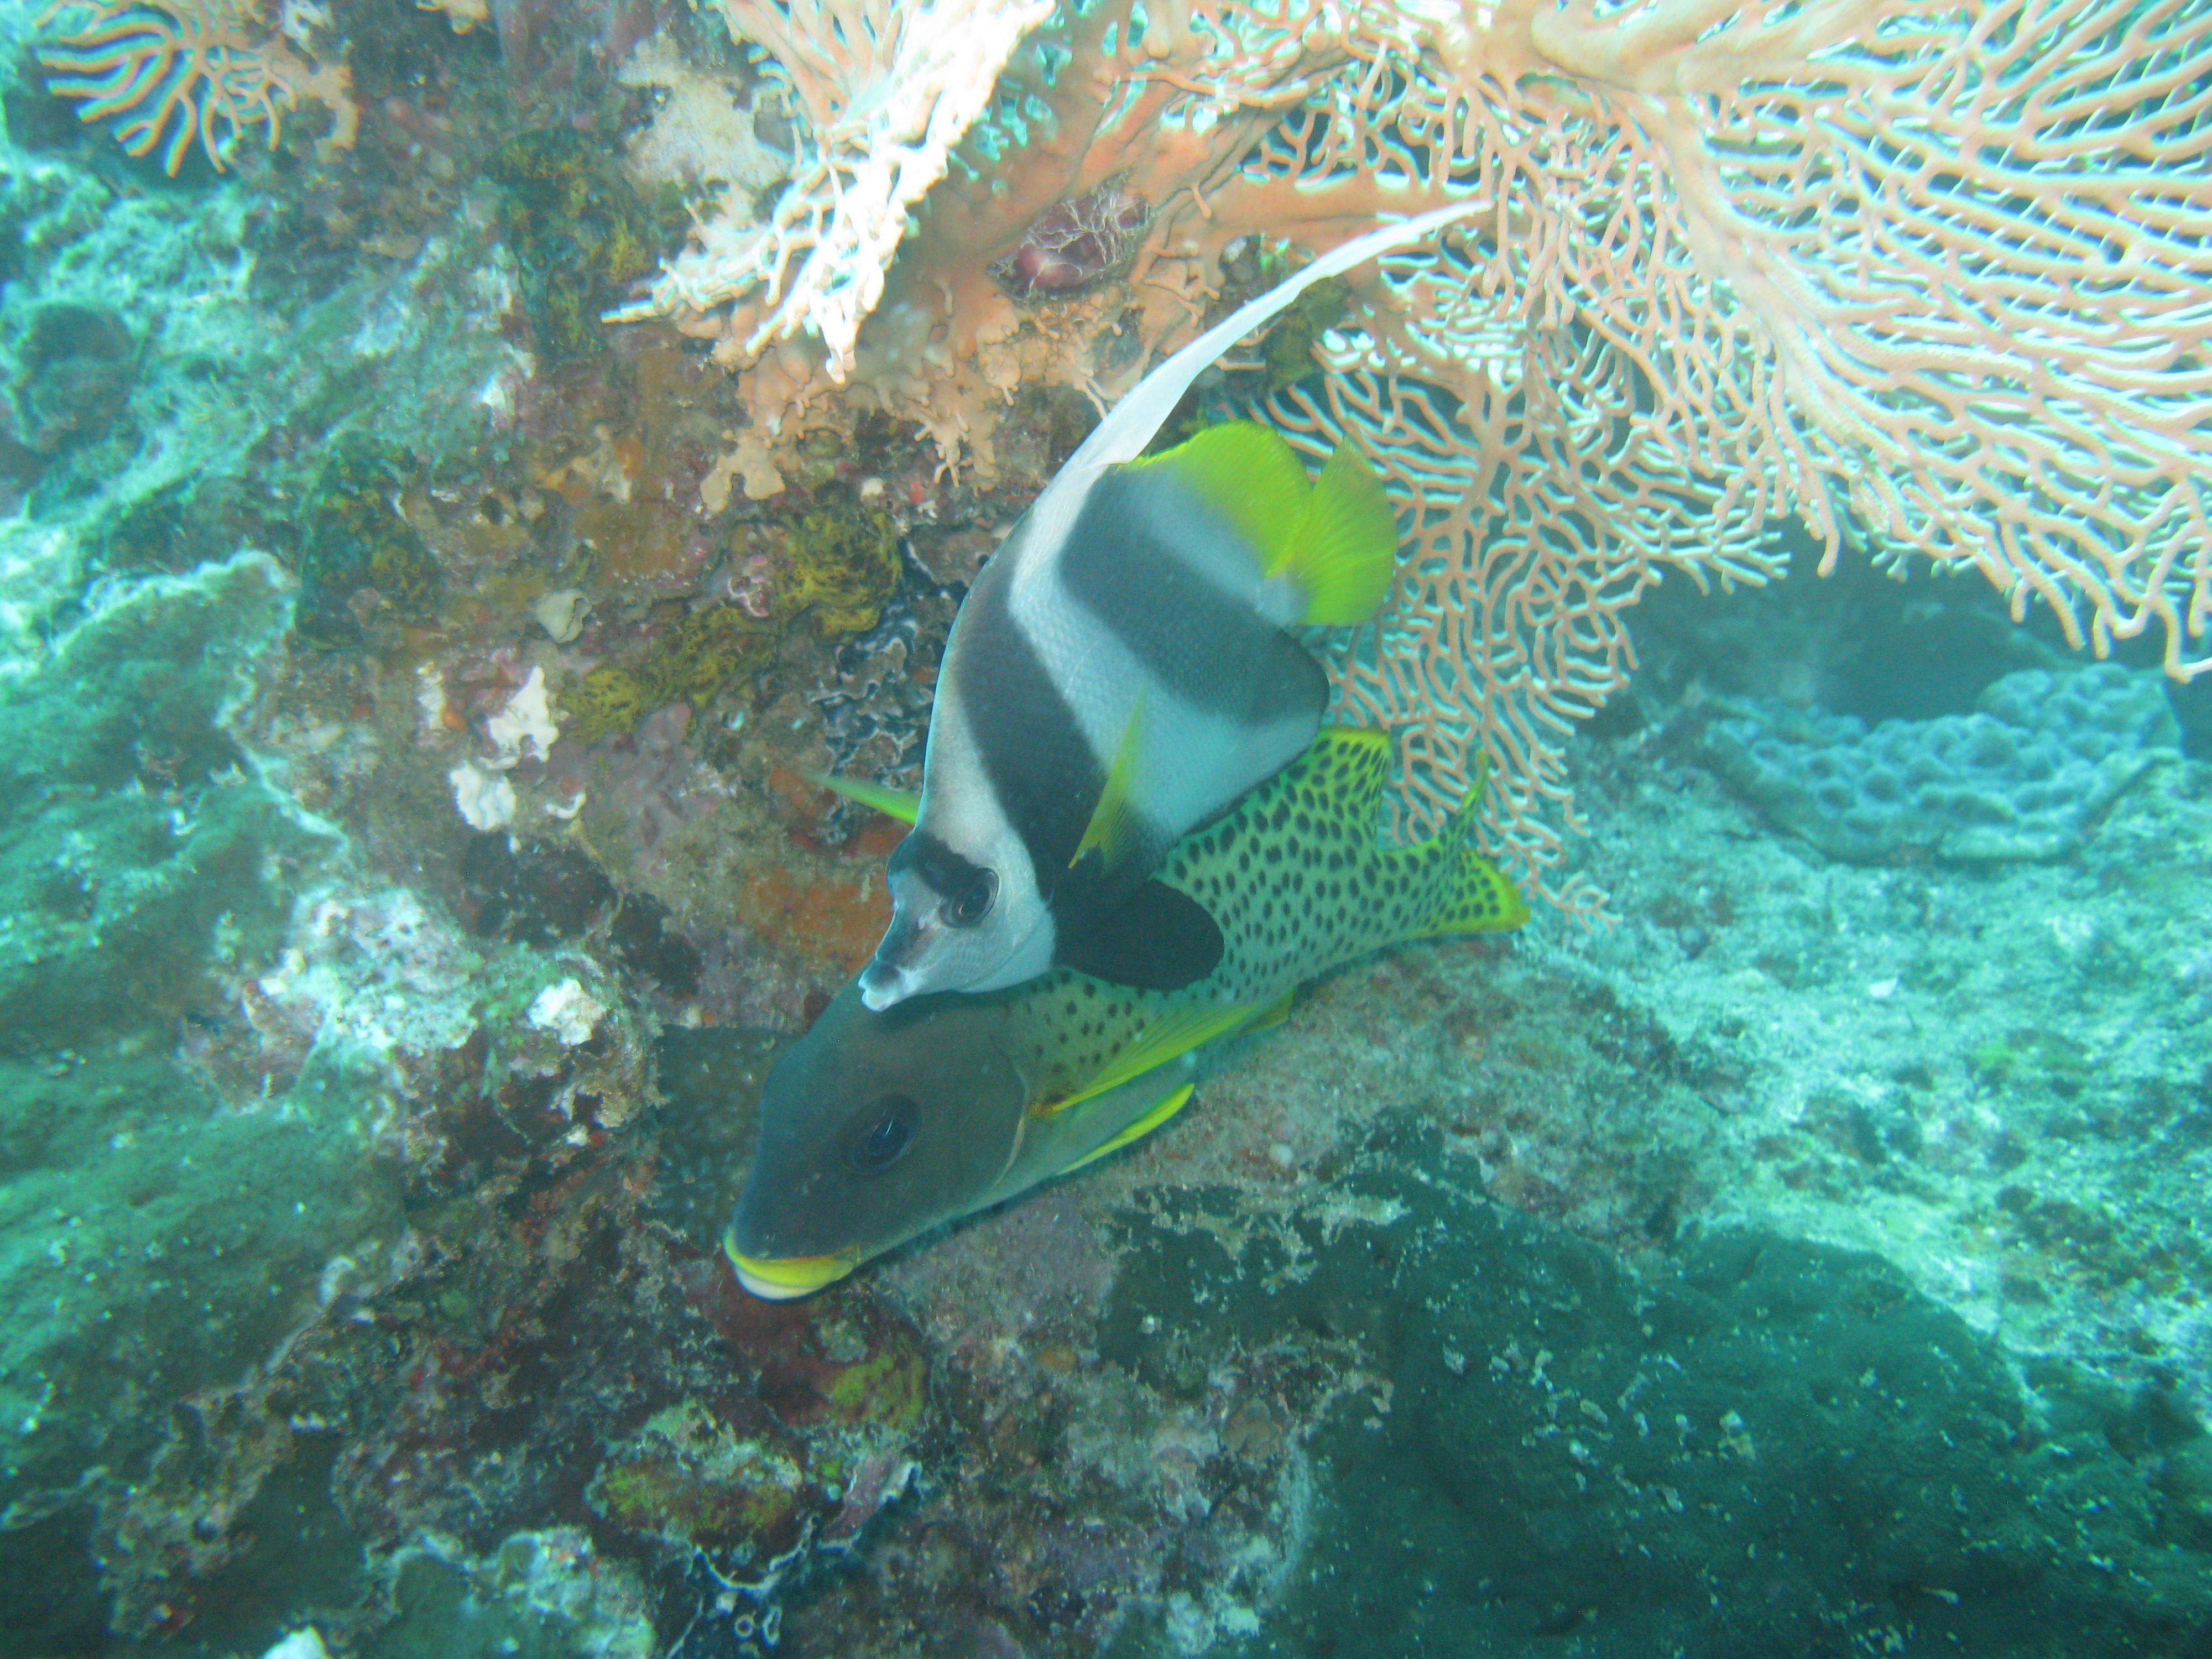Heniochus diphreutes: (681, 178, 1573, 1047)
